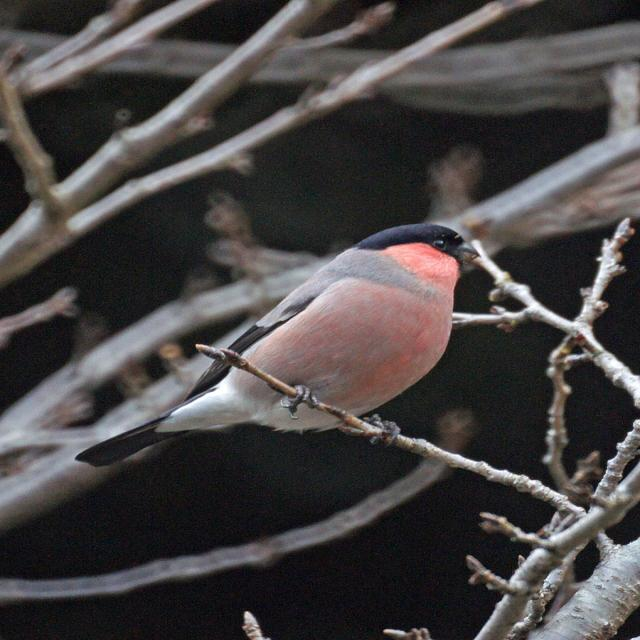bird: (79, 213, 488, 495), (238, 609, 280, 640)
